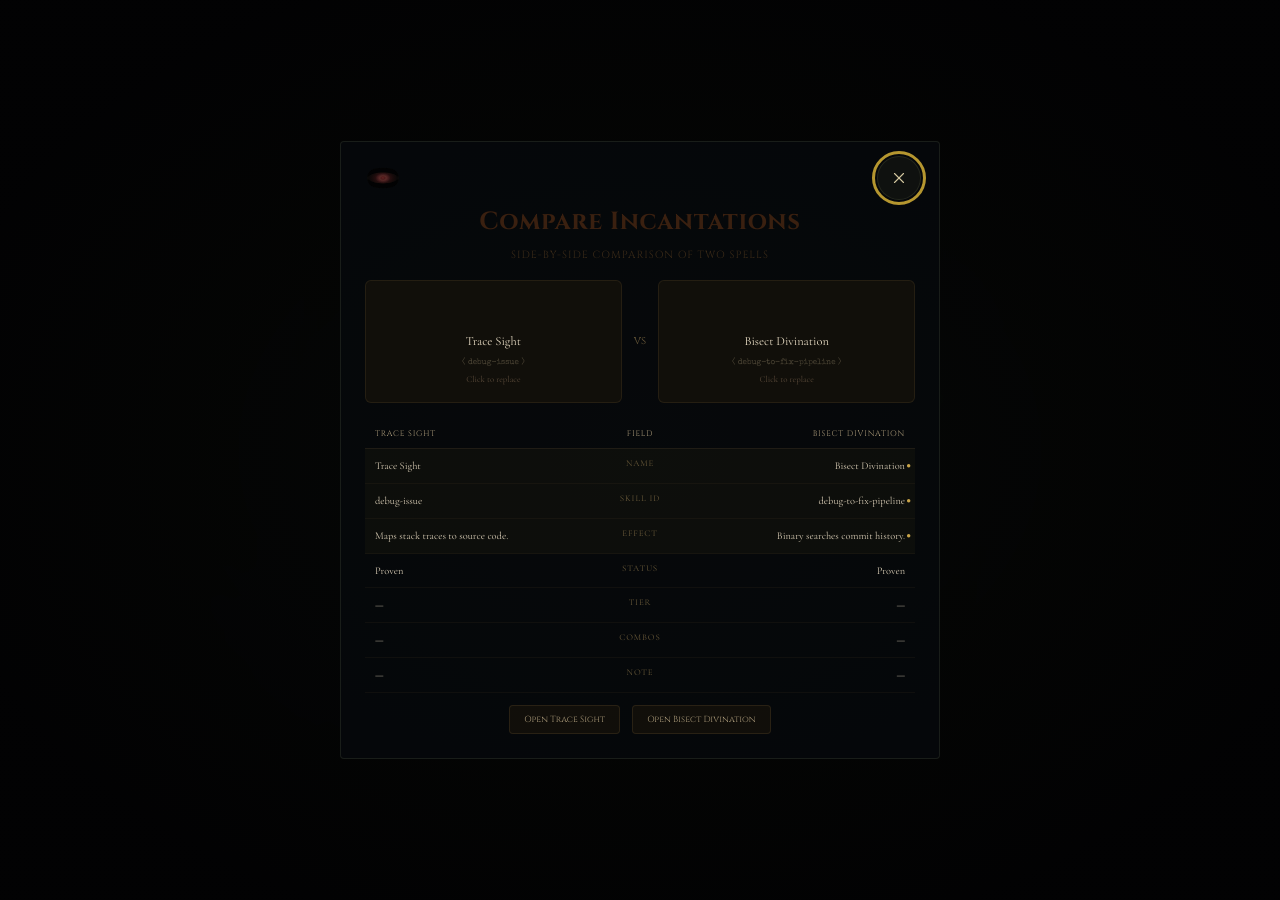
Scenario: CompareSpellsModal › opens picker when a filled slot is clicked (replace)
Note: Click the left slot button (which contains the spell name)
Click the button with test id "compare-slot" that starts with "Trace Sight" at (493, 341), box [365,280,622,403]
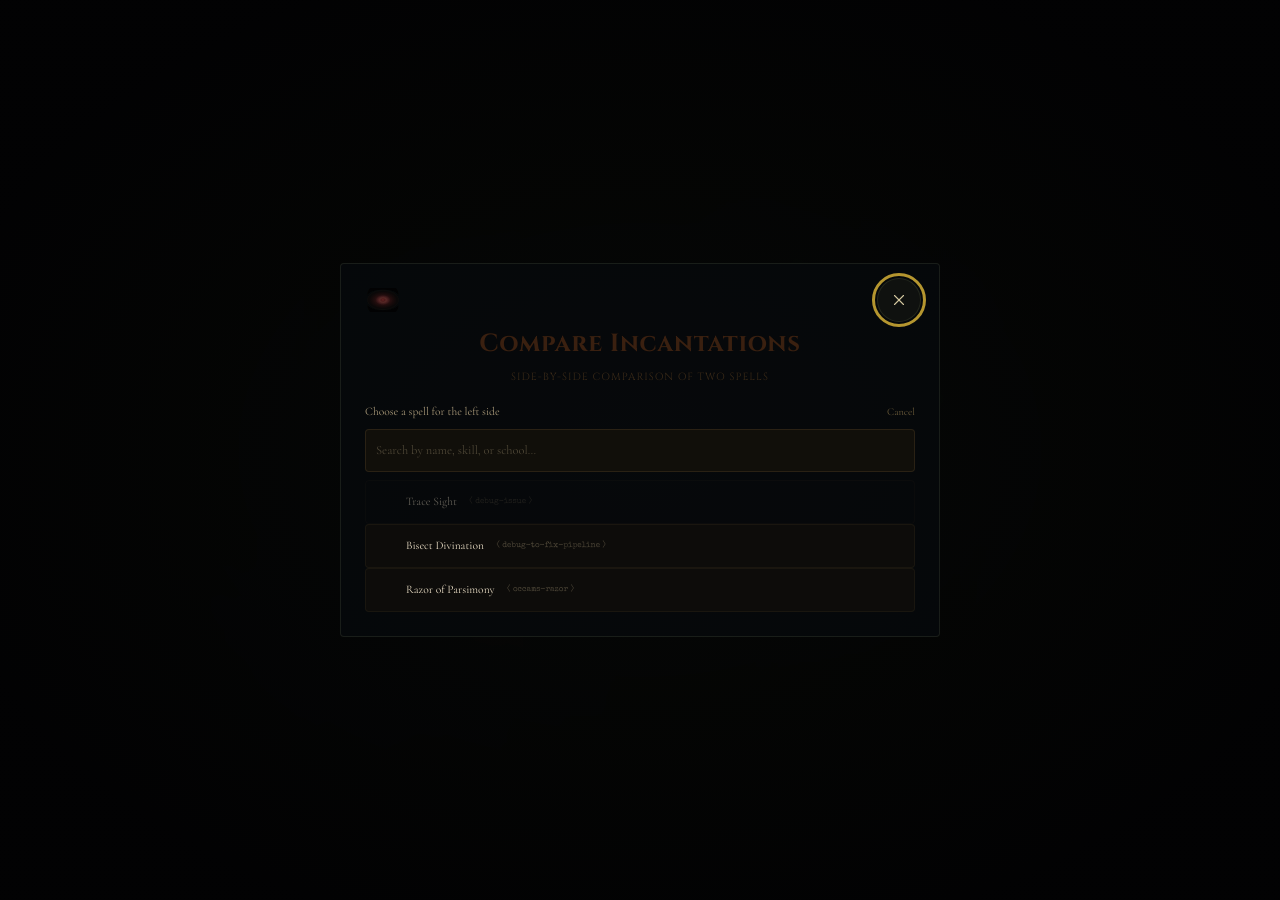
Expected: the text "Choose a spell for the left side" is shown, [365,402,500,421]
